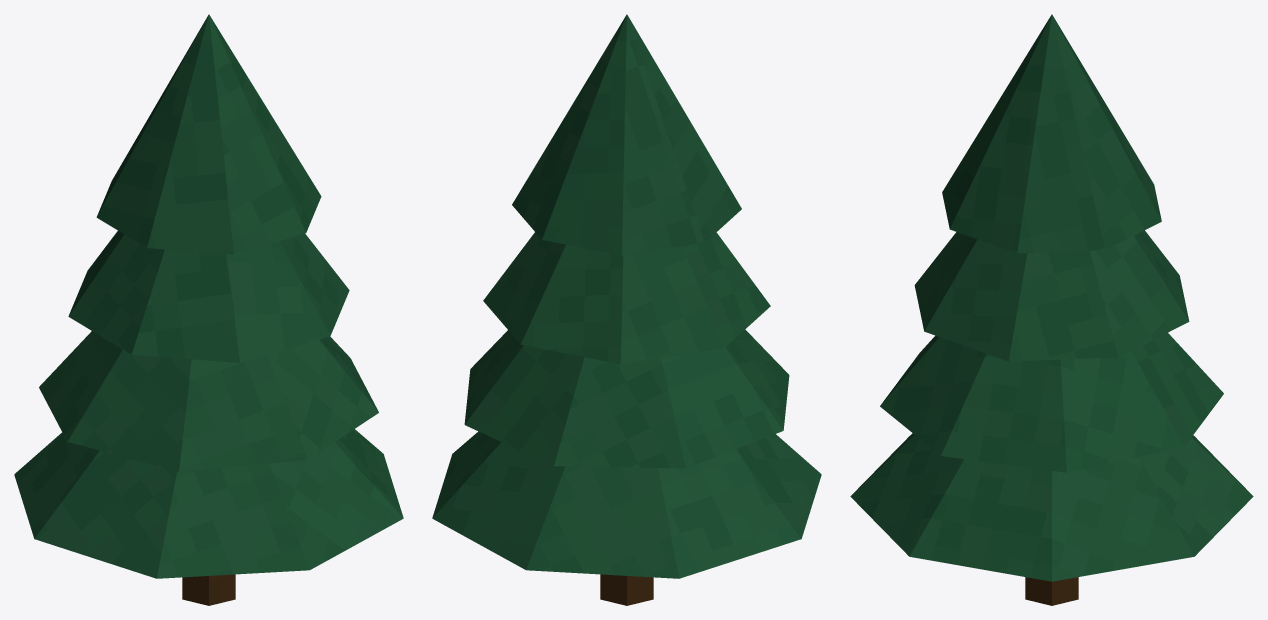
The model's file is tree_pine.gltf.
The picture shows the model from 3 angles, left to right: view 1: azimuth 30°, elevation 25°; view 2: azimuth 150°, elevation 25°; view 3: azimuth 270°, elevation 25°; orthographic projection.
Visible parts, largest first — view 1: cone (×4), trunk; view 2: cone (×4), trunk; view 3: cone (×4), trunk.
Part boxes in pixels (x1=…): cone (×4): x1=14, y1=14, x2=403, y2=578; trunk: x1=182, y1=574, x2=235, y2=605; cone (×4): x1=432, y1=14, x2=821, y2=578; trunk: x1=600, y1=574, x2=653, y2=605; cone (×4): x1=850, y1=14, x2=1253, y2=581; trunk: x1=1025, y1=577, x2=1078, y2=605.
Size of the model in its own units: 0.4735 by 0.75 by 0.4735.
Materials: 2 (2 with a texture image).
